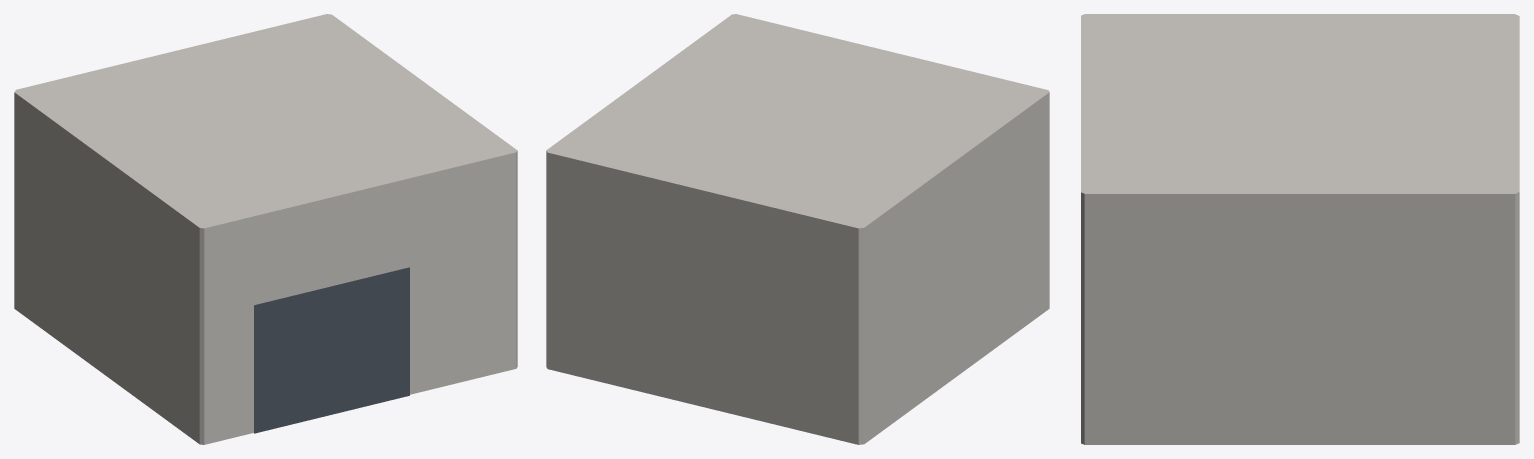
Rendered from loin-etape-1.glb.
3 views of the same model, side by side, from view 1: azimuth 30°, elevation 25°; view 2: azimuth 150°, elevation 25°; view 3: azimuth 270°, elevation 25° (orthographic). The views are drawn at different scales.
Parts seen in each view (by area): view 1: loin; view 2: loin; view 3: loin.
Part boxes in pixels (bbox=[...]): loin: bbox=[14, 14, 517, 444]; loin: bbox=[546, 14, 1049, 444]; loin: bbox=[1081, 14, 1519, 444].
Bounding box in the file's own units: 0.6811 × 0.4434 × 0.7063.
